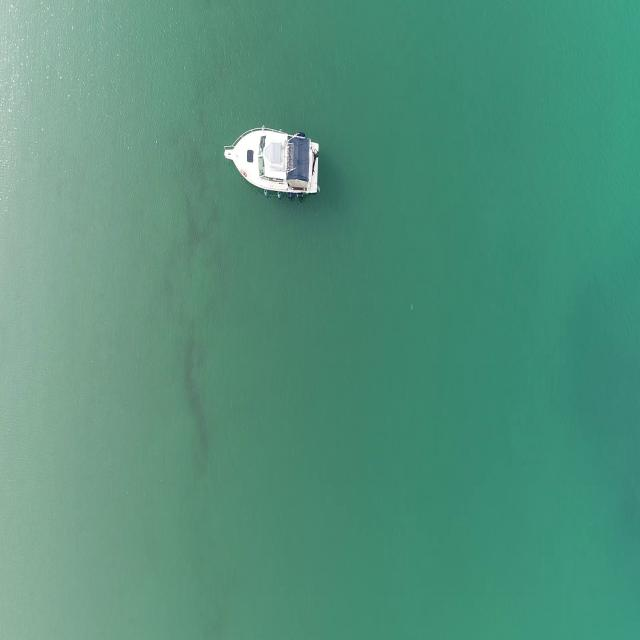boat: (222, 124, 320, 202)
